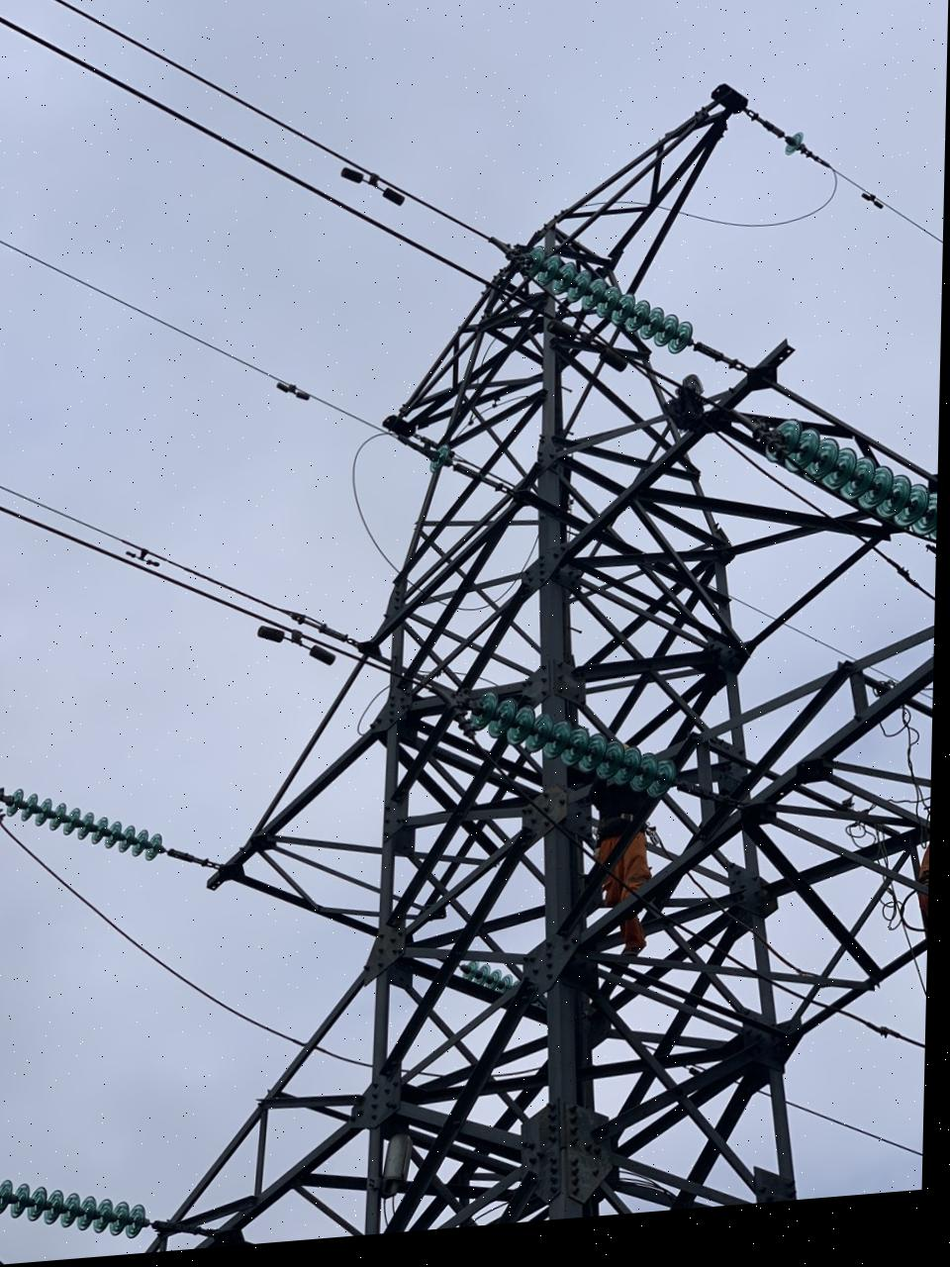tower: (126, 33, 923, 1252)
